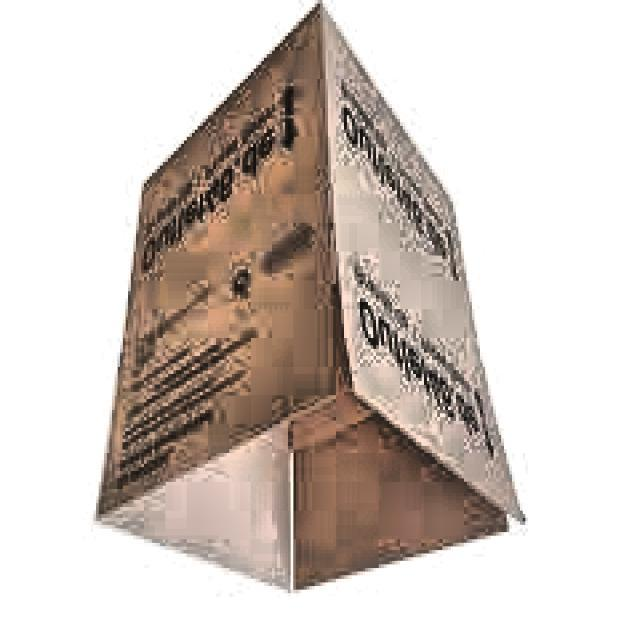cardboard: (90, 3, 526, 600)
